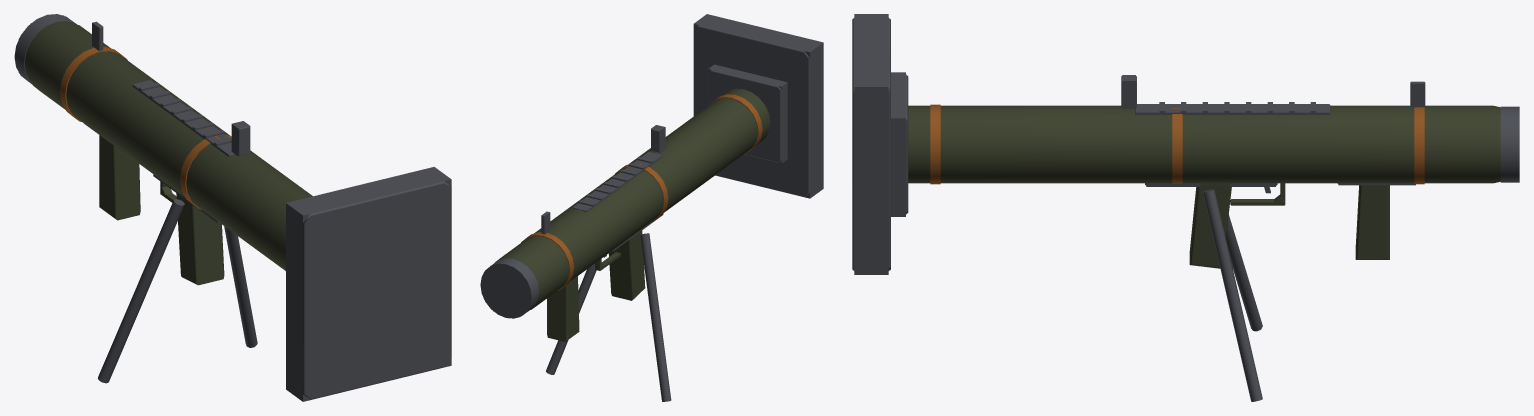
Rendered from la_mortar.glb.
The picture shows the model from 3 angles, left to right: view 1: azimuth 30°, elevation 25°; view 2: azimuth 150°, elevation 25°; view 3: azimuth 270°, elevation 25°; orthographic projection. The views are drawn at different scales.
Visible parts, largest first — view 1: L0, L1; view 2: L0, L1; view 3: L0, L1.
Boxes of the visible parts, x1,y1,x2,y2 form: L0: (14,14,451,399); L1: (18,15,451,401); L0: (480,15,823,401); L1: (480,14,823,401); L0: (852,17,1519,401); L1: (854,14,1519,401).
Bounding box in the file's own units: 0.2134 × 0.4025 × 0.7724.
